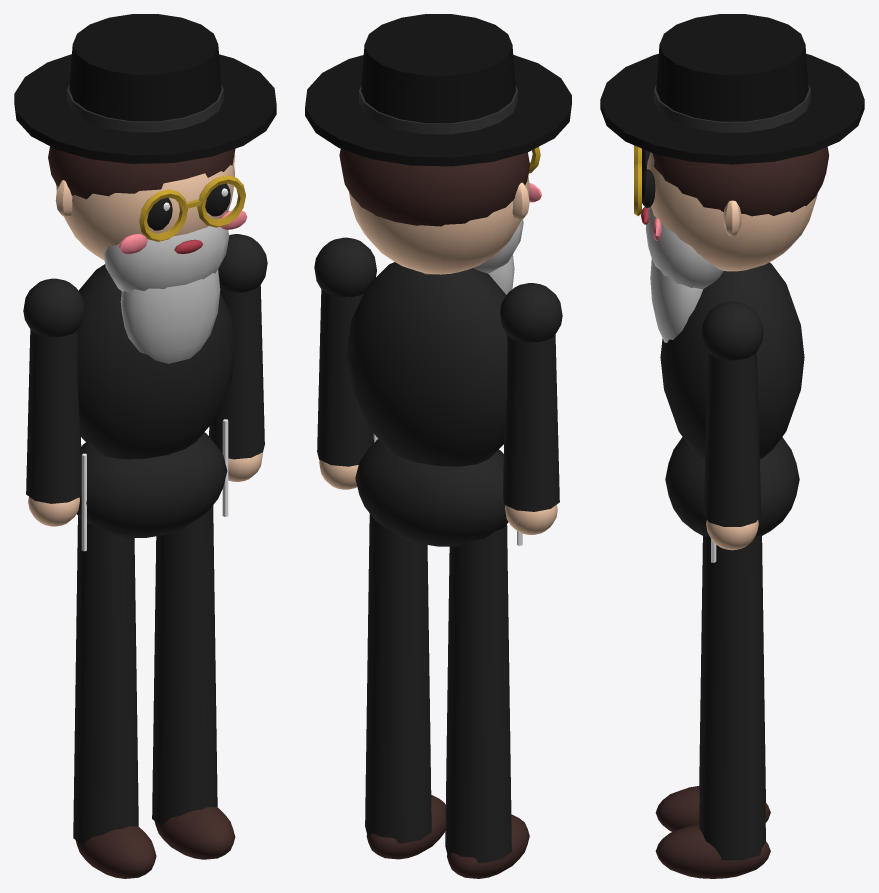
The model's file is cameos_rabbi.glb.
3 views of the same model, side by side, from view 1: azimuth 30°, elevation 25°; view 2: azimuth 150°, elevation 25°; view 3: azimuth 270°, elevation 25° (orthographic).
Visible parts, largest first — view 1: Body.018, Leg_R.018, Leg_L.018, Arm_R.018, Arm_L.018, CameosRabbiExtra; view 2: Body.018, Leg_R.018, Leg_L.018, Arm_R.018, Arm_L.018, CameosRabbiExtra; view 3: Body.018, Leg_L.018, Arm_L.018, CameosRabbiExtra, Leg_R.018.
Boxes of the visible parts, x1,y1,x2,y2 form: Body.018: (14,14,276,551); Leg_R.018: (73,516,156,878); Leg_L.018: (152,505,235,859); Arm_R.018: (23,278,84,526); Arm_L.018: (209,234,267,481); CameosRabbiExtra: (120,269,220,363); Body.018: (305,14,571,546); Leg_R.018: (445,524,529,878); Leg_L.018: (365,513,445,859); Arm_R.018: (500,283,562,534); Arm_L.018: (314,237,376,489); CameosRabbiExtra: (488,254,514,294); Body.018: (600,14,864,562); Leg_L.018: (655,535,770,878); Arm_L.018: (701,301,763,550); CameosRabbiExtra: (650,258,703,342); Leg_R.018: (655,536,770,831).
Size of the model in its own units: 0.57 by 1.86 by 0.551.
